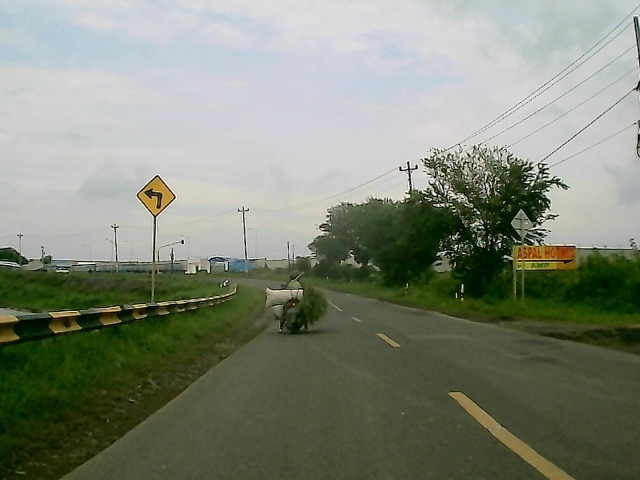Tikungan tajam ke kiri: (134, 173, 178, 218)
